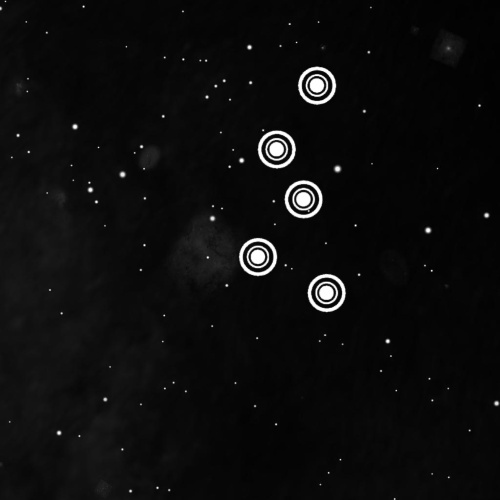cassiopeia: (232, 53, 355, 320)
